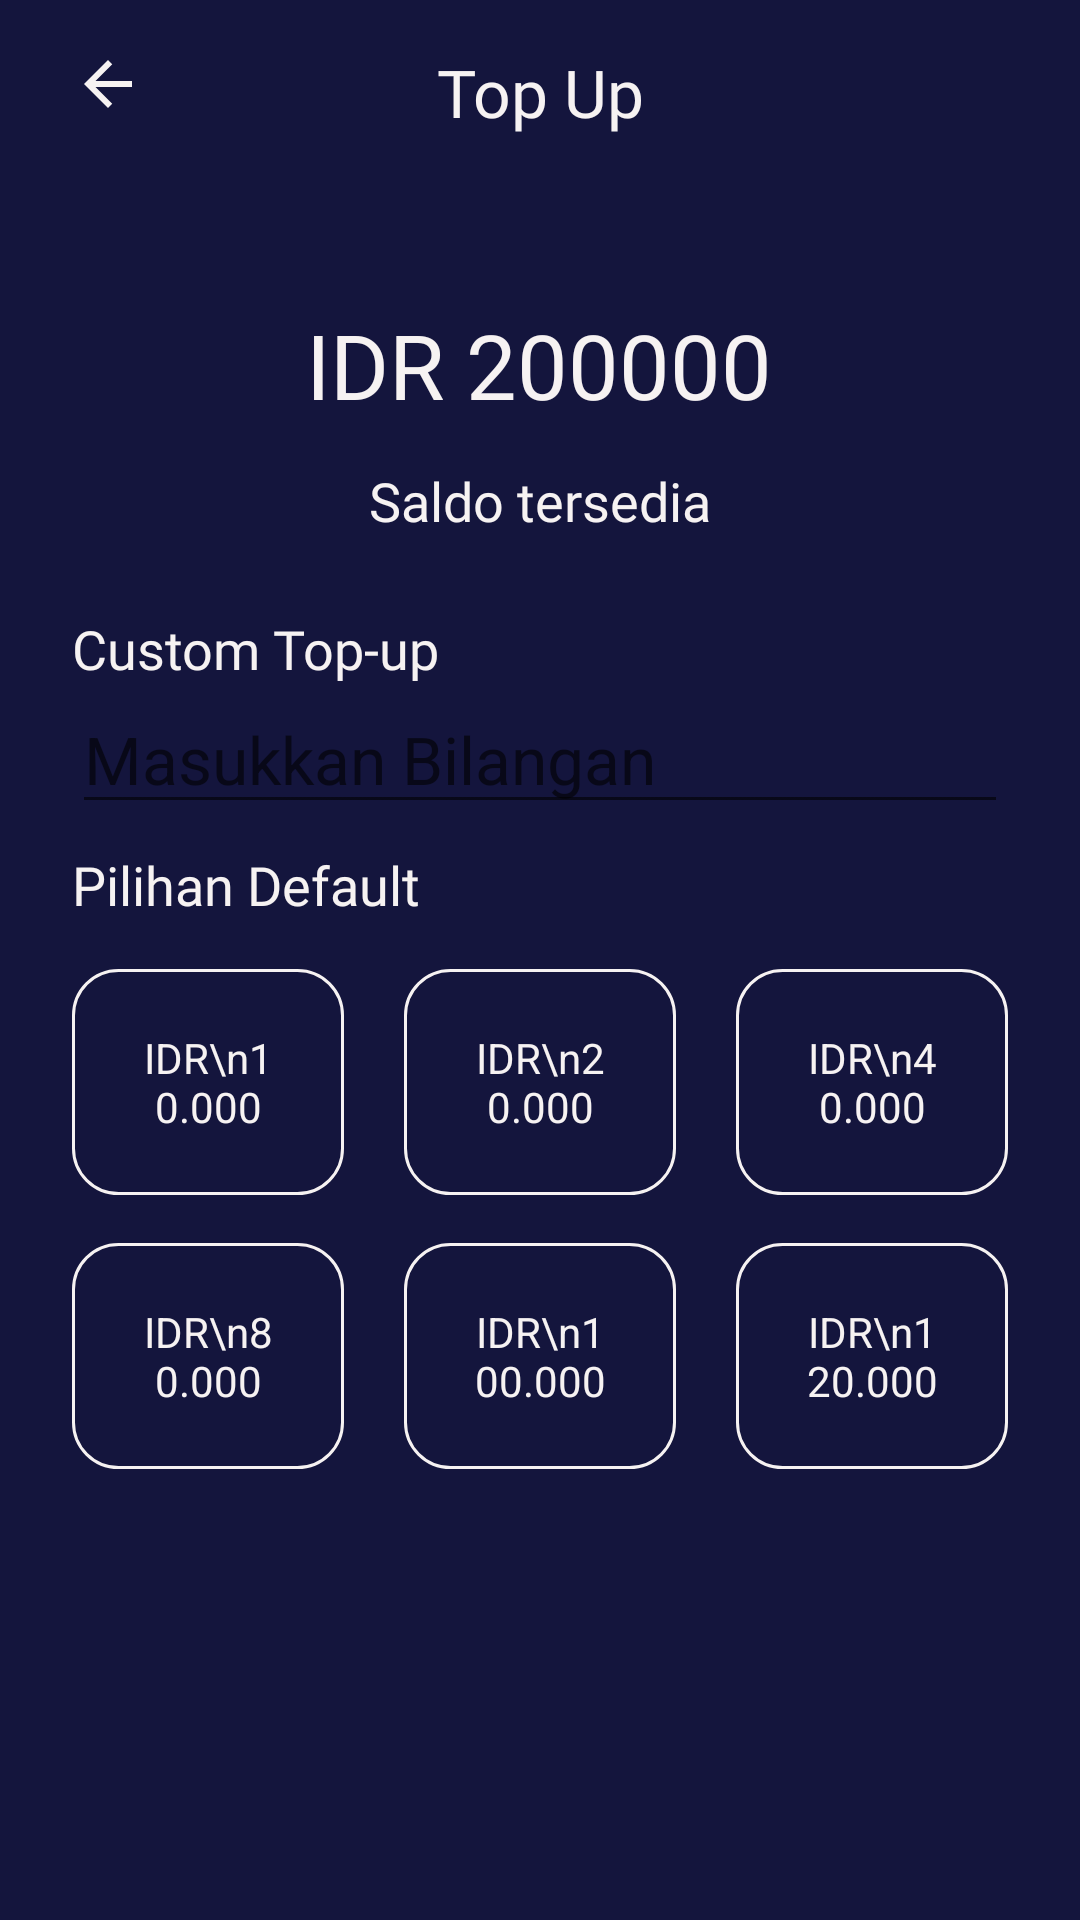

Where icons sit on this 1080*1920 app screen, as (x1, y1, x2, y2):
arrow back: (84, 60, 132, 108)
